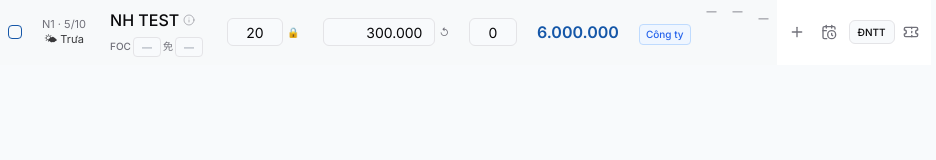
Scenario: FOC Nhà hàng không bị lần lưu dòng ghi đè về số cũ (useNHSection + NHRow thật) › ô FOC lưu lỗi → báo lỗi, ô về số cũ, bảng làm việc theo DB ngay (không ghi số chưa lưu được)
Later steps or results of the test are not shown.
In the 1st number field with placeholder "—": (147, 46) [133, 36, 161, 56], type "16"
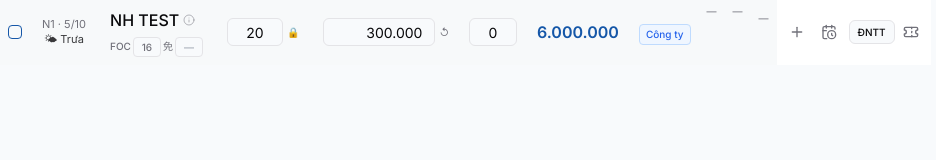
Leave the number field with placeholder "—" next to "FOC", box [133, 36, 161, 56]
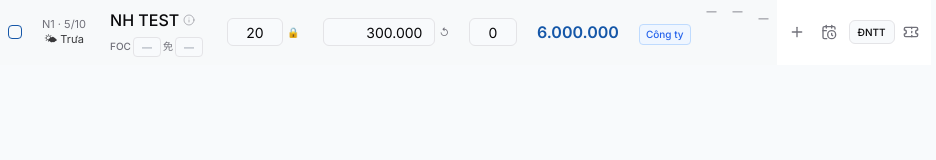
expect the 1st number field with placeholder "—" is empty: met, box [133, 36, 161, 56]
